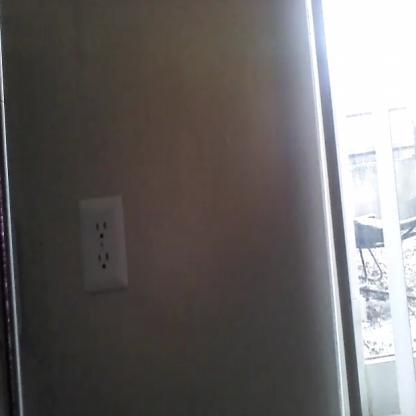OUTLET: (78, 195, 130, 294)
